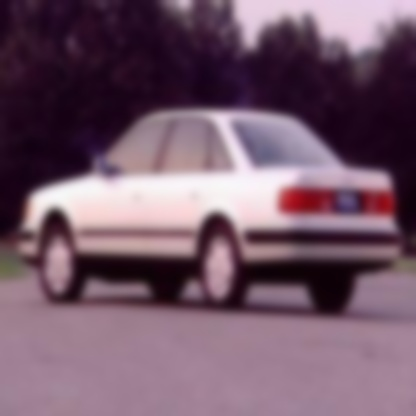Vehicle: (18, 110, 403, 317)
